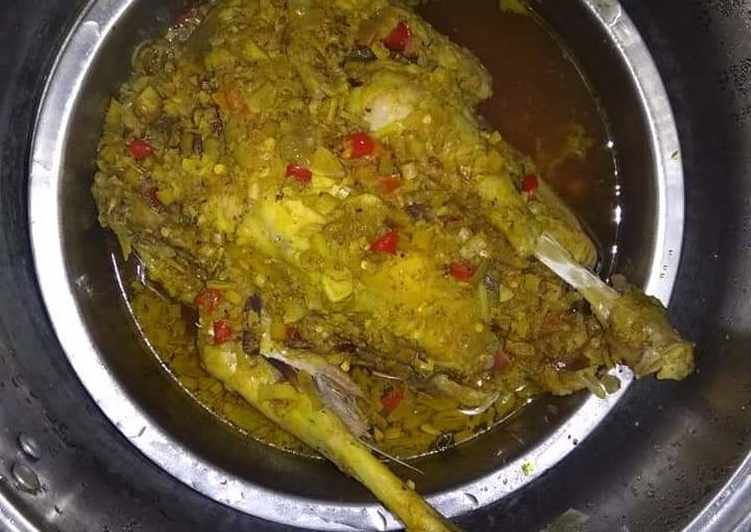ayam_betutu: (96, 5, 696, 532)
